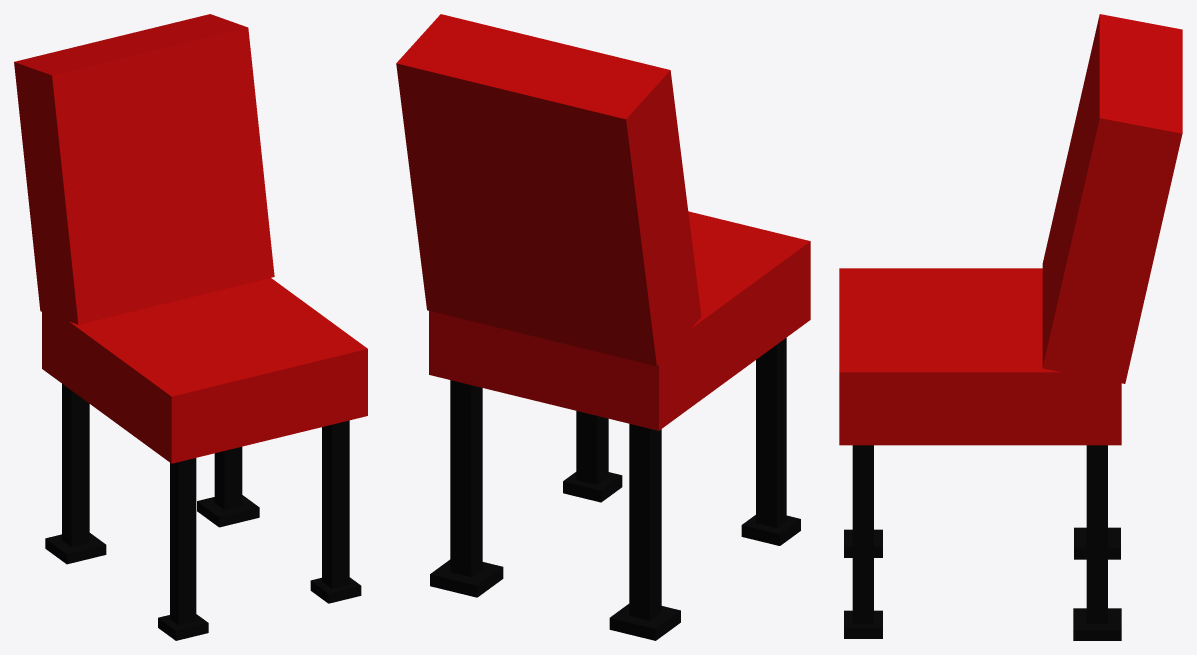
The model's file is Стул.obj.
The picture shows the model from 3 angles, left to right: view 1: azimuth 30°, elevation 25°; view 2: azimuth 150°, elevation 25°; view 3: azimuth 270°, elevation 25°; orthographic projection. The views are drawn at different scales.
Parts seen in each view (by area): view 1: Cube.001_Cube.007, Cube_Cube.006, Cube.005_Cube.011, Cube.008_Cube.014, Cube.007_Cube.013, Cube.006_Cube.012, Cube.011_Cube.017, Cube.010_Cube.016, Cube.009_Cube.015, Cube.012_Cube.018; view 2: Cube.001_Cube.007, Cube_Cube.006, Cube.006_Cube.012, Cube.007_Cube.013, Cube.008_Cube.014, Cube.005_Cube.011, Cube.011_Cube.017, Cube.010_Cube.016, Cube.009_Cube.015, Cube.012_Cube.018; view 3: Cube_Cube.006, Cube.001_Cube.007, Cube.005_Cube.011, Cube.006_Cube.012, Cube.011_Cube.017, Cube.010_Cube.016, Cube.012_Cube.018, Cube.009_Cube.015.
Part boxes in pixels (x1,y1,x2,y2): Cube.001_Cube.007: (14,14,274,324); Cube_Cube.006: (42,278,367,463); Cube.005_Cube.011: (322,420,349,588); Cube.008_Cube.014: (170,458,196,625); Cube.007_Cube.013: (62,384,89,546); Cube.006_Cube.012: (214,446,242,509); Cube.011_Cube.017: (197,495,259,527); Cube.010_Cube.016: (45,533,106,564); Cube.009_Cube.015: (158,614,208,640); Cube.012_Cube.018: (310,577,361,603); Cube.001_Cube.007: (396,14,701,366); Cube_Cube.006: (429,211,810,430); Cube.006_Cube.012: (450,380,482,577); Cube.007_Cube.013: (629,424,661,620); Cube.008_Cube.014: (756,337,786,527); Cube.005_Cube.011: (576,411,608,484); Cube.011_Cube.017: (430,559,503,597); Cube.010_Cube.016: (609,604,680,640); Cube.009_Cube.015: (741,515,800,545); Cube.012_Cube.018: (563,472,622,502); Cube_Cube.006: (839,268,1121,445); Cube.001_Cube.007: (1042,14,1182,383); Cube.005_Cube.011: (852,445,873,623); Cube.006_Cube.012: (1086,445,1107,623); Cube.011_Cube.017: (1073,608,1121,640); Cube.010_Cube.016: (1074,527,1120,559); Cube.012_Cube.018: (844,610,882,638); Cube.009_Cube.015: (844,529,882,557).
Bounding box in the file's own units: 1.75 × 4.09 × 2.43.
